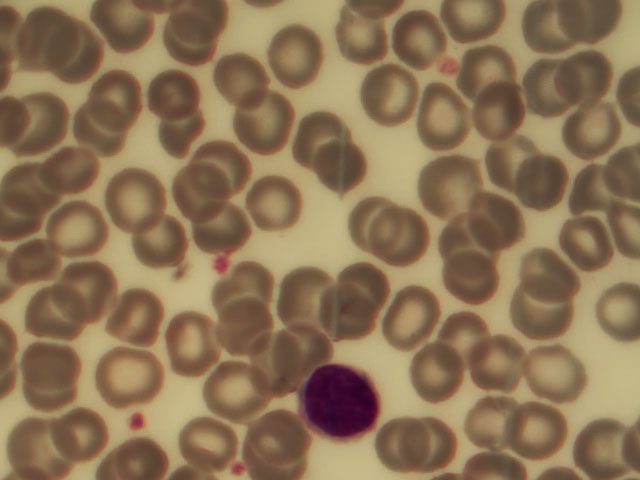Platelets: (440, 53, 461, 76), (230, 461, 254, 478), (215, 254, 230, 279), (131, 410, 143, 437)
RBC: (12, 2, 78, 67), (50, 23, 116, 88), (11, 93, 77, 158), (39, 138, 105, 203), (1, 156, 67, 221), (61, 106, 127, 171), (80, 68, 146, 133), (137, 55, 203, 120), (84, 4, 150, 69), (161, 11, 227, 76), (202, 46, 268, 111), (224, 88, 290, 153), (265, 21, 331, 86), (292, 98, 358, 163), (300, 135, 366, 200), (246, 167, 312, 232), (186, 193, 252, 258), (170, 164, 236, 229), (186, 134, 252, 199), (124, 212, 190, 277), (97, 161, 163, 226), (54, 196, 120, 261), (8, 230, 74, 295), (54, 250, 120, 315), (27, 279, 93, 344), (20, 331, 86, 396), (94, 341, 160, 406), (101, 287, 167, 352), (154, 310, 220, 375), (209, 298, 275, 363), (223, 260, 289, 325), (262, 260, 328, 325), (296, 275, 362, 340), (337, 256, 403, 321), (262, 325, 328, 390), (204, 357, 270, 422), (172, 401, 238, 466), (247, 402, 313, 467), (55, 403, 121, 468), (6, 411, 72, 476), (360, 407, 426, 472), (414, 412, 480, 477), (453, 386, 519, 451), (506, 402, 572, 467), (521, 341, 587, 406), (475, 335, 541, 400), (442, 301, 508, 366), (400, 339, 466, 404), (386, 290, 452, 355), (382, 210, 448, 275), (345, 190, 411, 255), (420, 152, 486, 217), (410, 79, 476, 144), (360, 57, 426, 122), (334, 10, 400, 75), (373, 9, 439, 74), (460, 34, 526, 99), (467, 74, 533, 139), (480, 122, 546, 187), (503, 154, 569, 219), (475, 182, 541, 247), (439, 203, 505, 268), (434, 250, 500, 315), (519, 239, 585, 304), (509, 275, 575, 340), (574, 285, 640, 350), (574, 415, 640, 480), (558, 210, 624, 275), (564, 161, 630, 226), (554, 94, 620, 159), (561, 39, 627, 104), (521, 53, 587, 118), (519, 3, 582, 54)
WBC: (304, 367, 379, 440)
